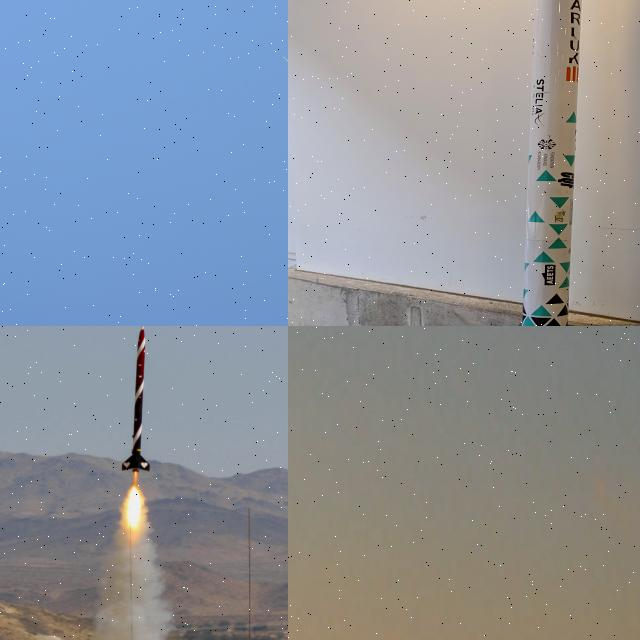Rocket: (521, 0, 582, 326), (119, 326, 152, 473), (283, 57, 288, 63)
